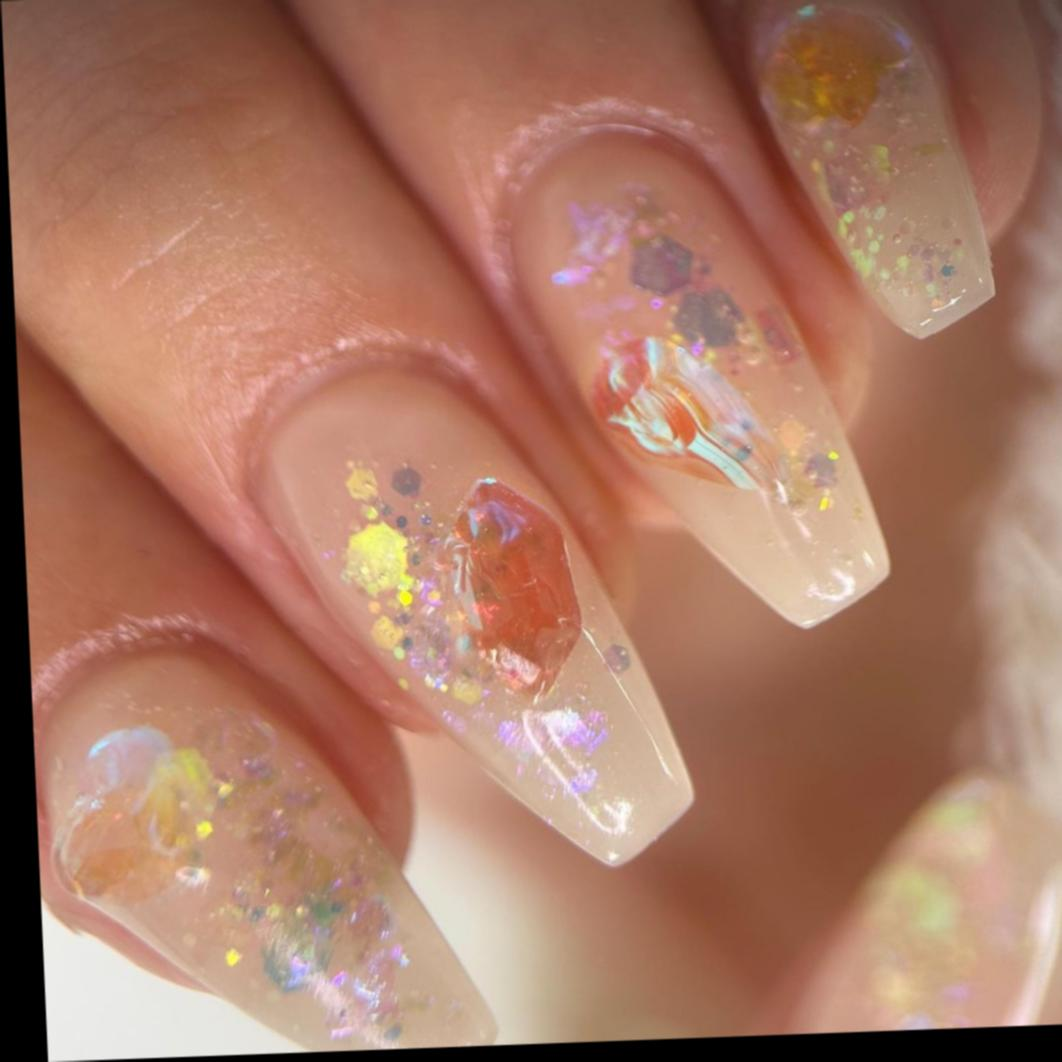nail: (242, 352, 700, 883), (501, 113, 895, 642), (30, 629, 501, 1062), (736, 0, 1001, 348)
